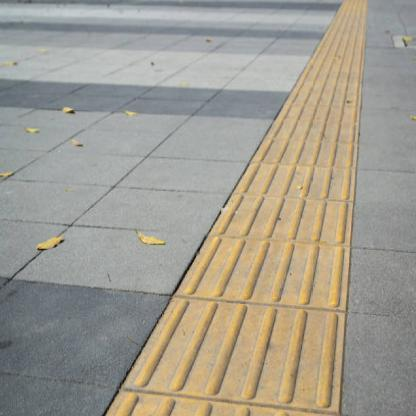podotacti: (107, 2, 368, 411)
